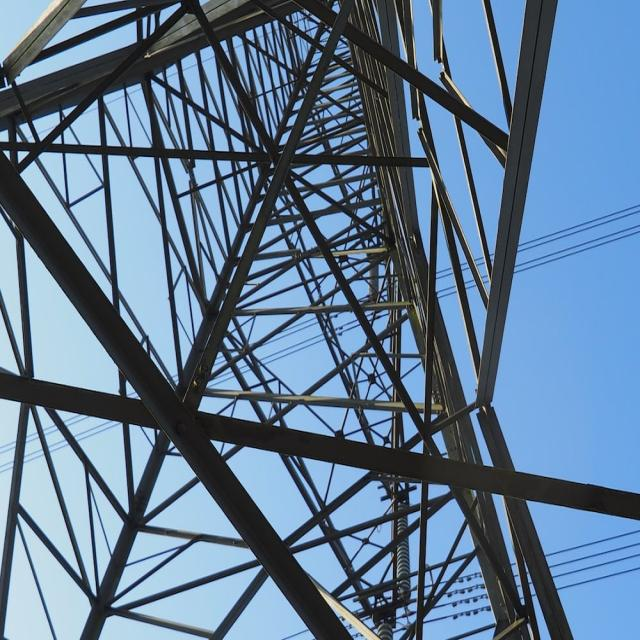transmission tower: (9, 0, 610, 585)
